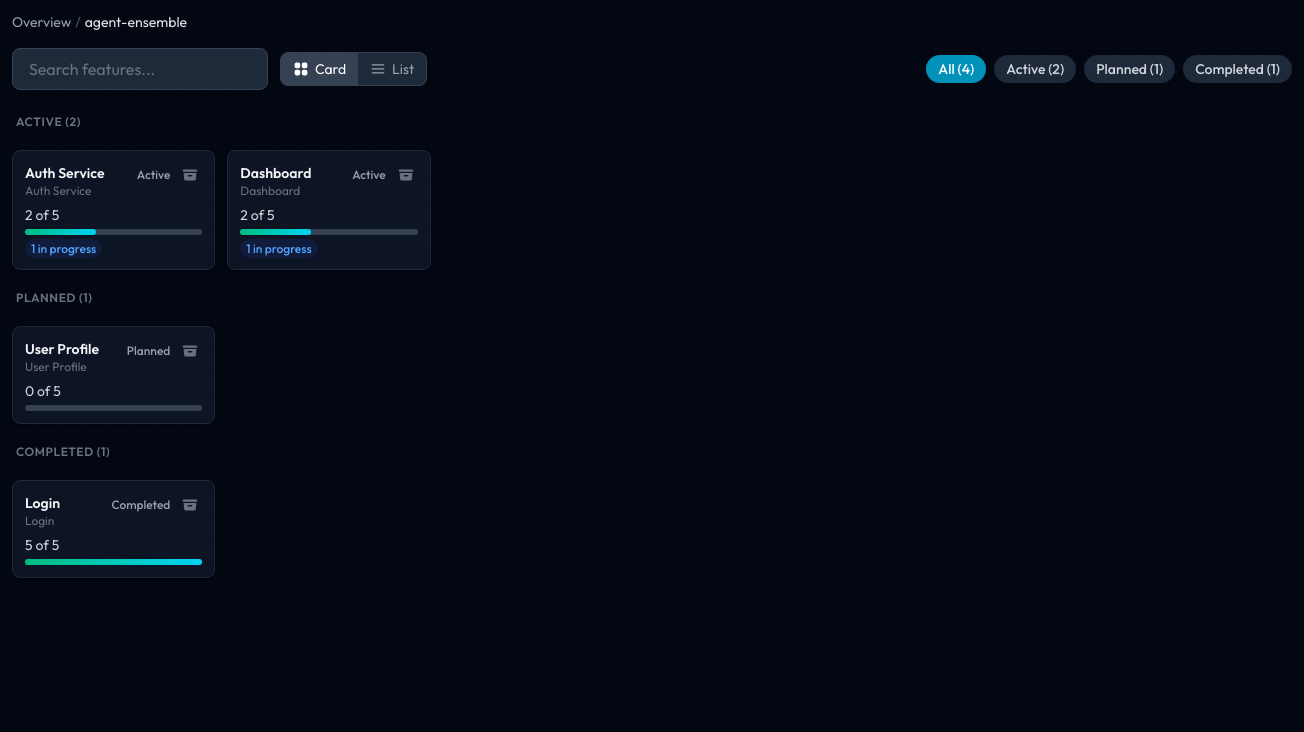
Test: ProjectFeatureView › status filter controls › filters to show only selected status when clicked
The image size is (1304, 732).
Note: Click "Active" filter
What coordinates should you click on to do the following:
click the button "Active (2)"
I would click on:
 (1035, 69)
Its box is [994,55,1076,83].
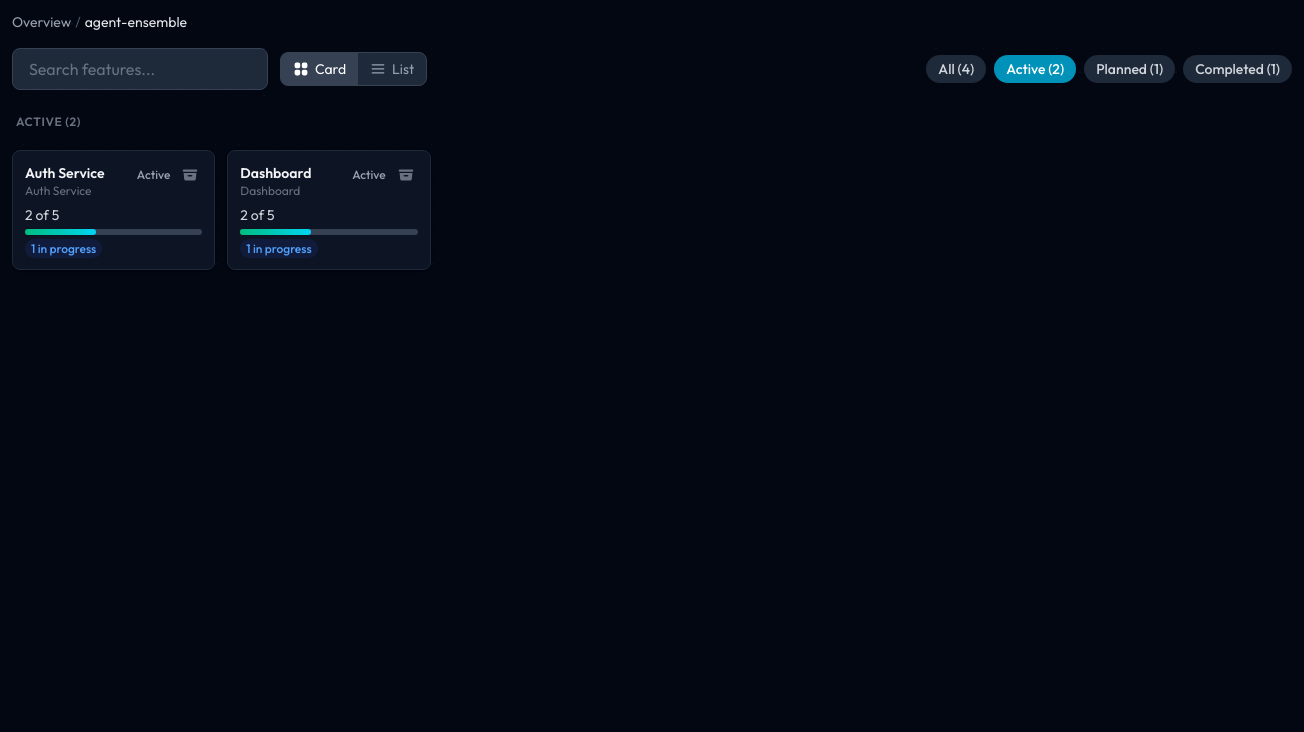
Expected: the heading "Auth Service" is shown, [25,164,104,182]
Now the button "User Profile" is gone
Now the button "Login" is gone
